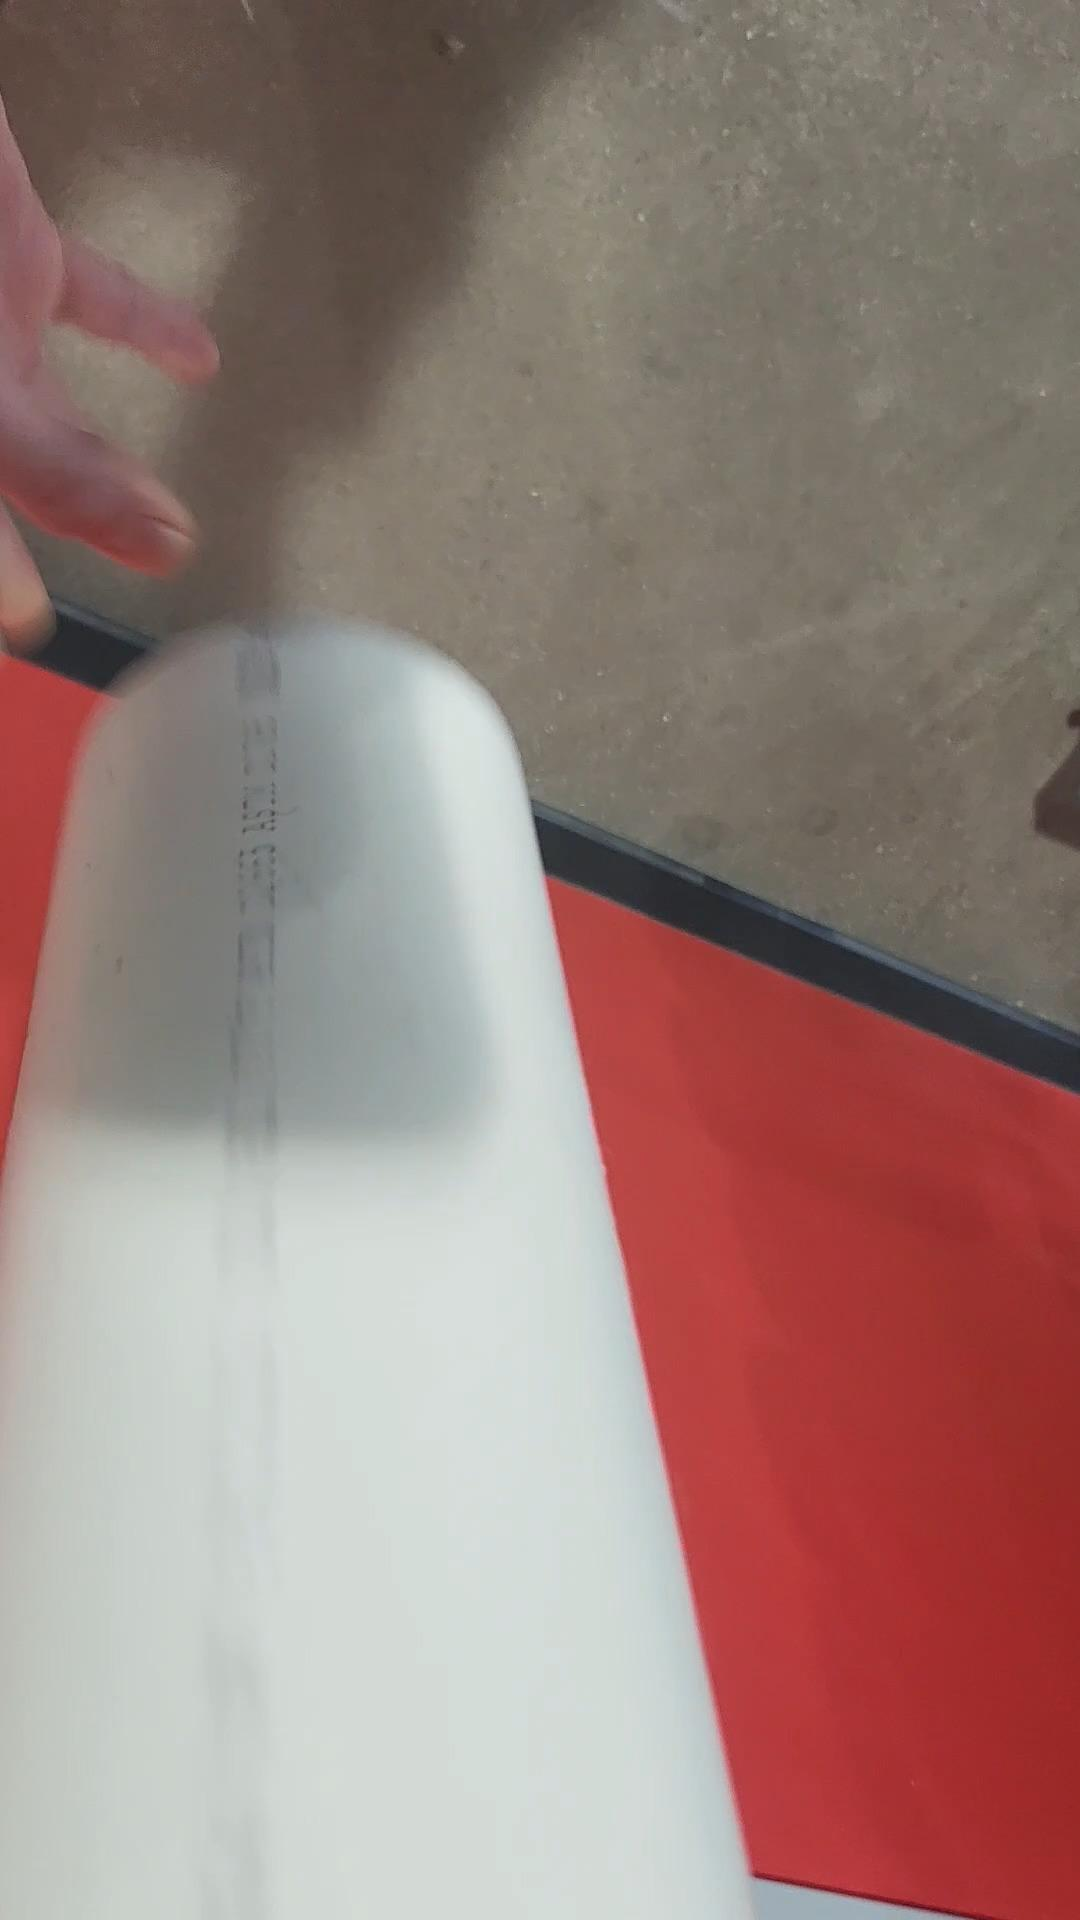coral: (0, 622, 765, 1919)
